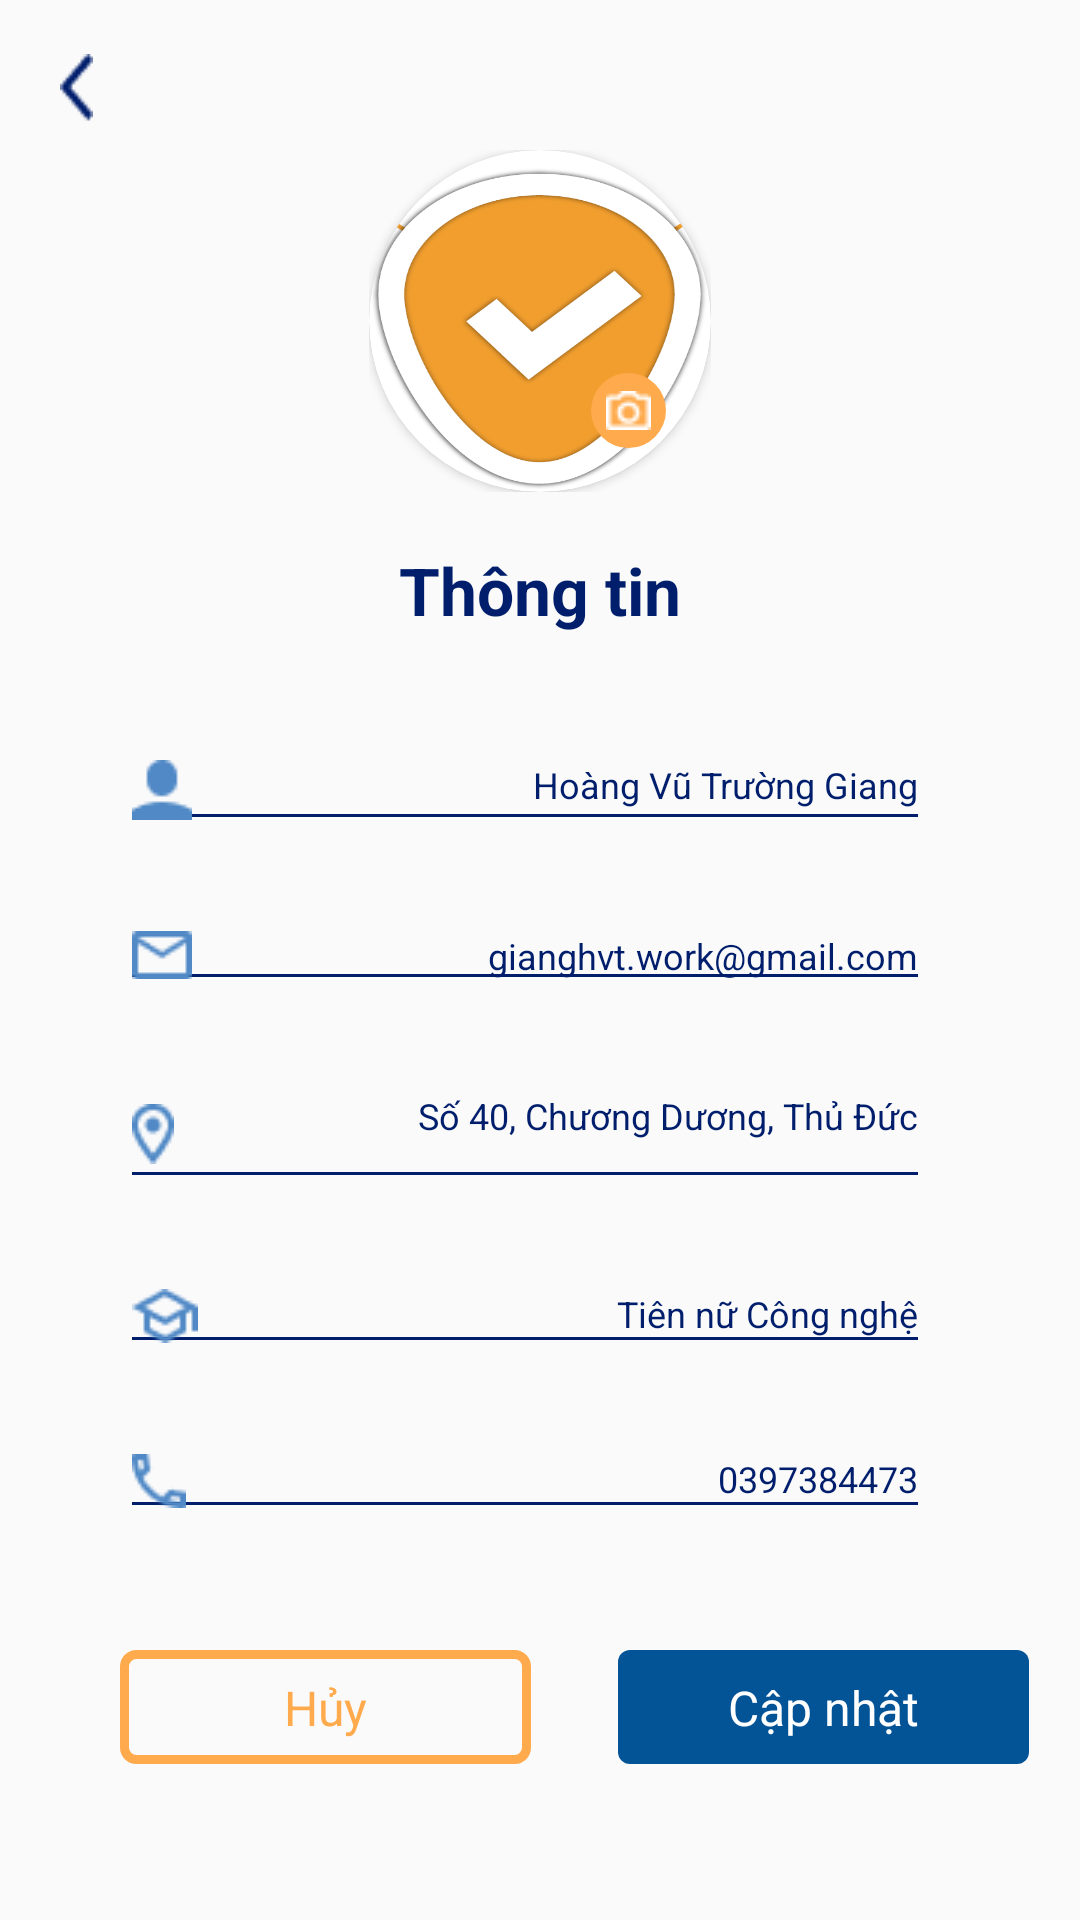

Named icons in this screenshot (1080 x 1920) and their centers, point (x, y):
camera: point (628, 410)
